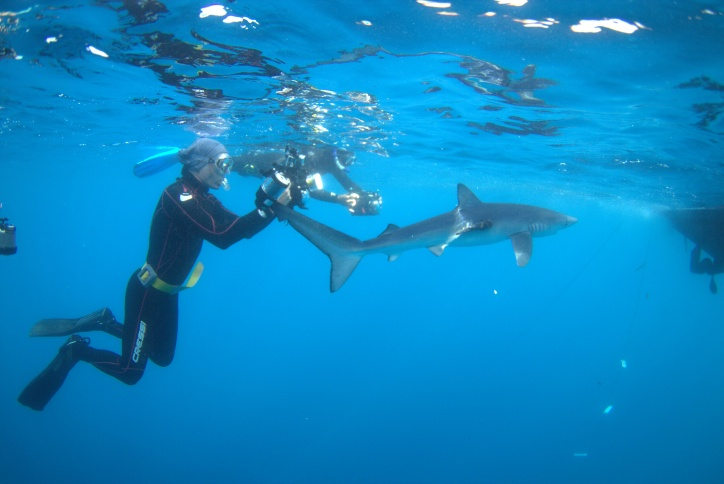Azul: (259, 176, 594, 311)
